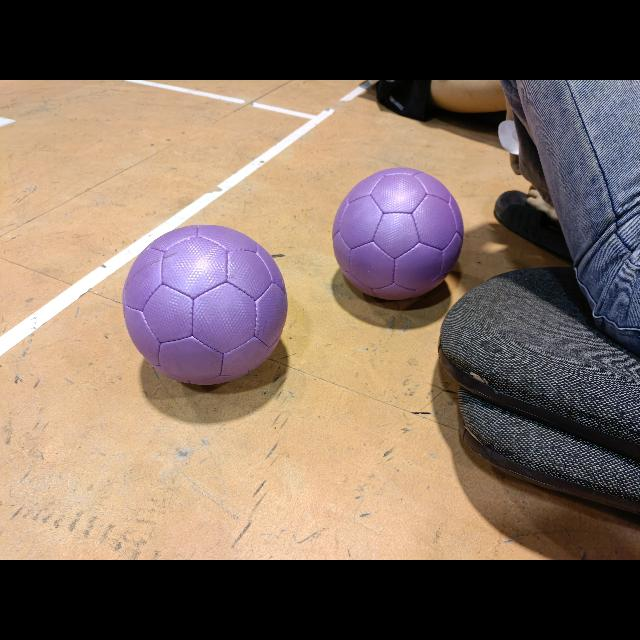P: (124, 225, 286, 385), (332, 168, 463, 300)
